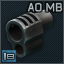M1911A1 Anarchy Outdoors muzzle brake: (0, 0, 64, 64)
